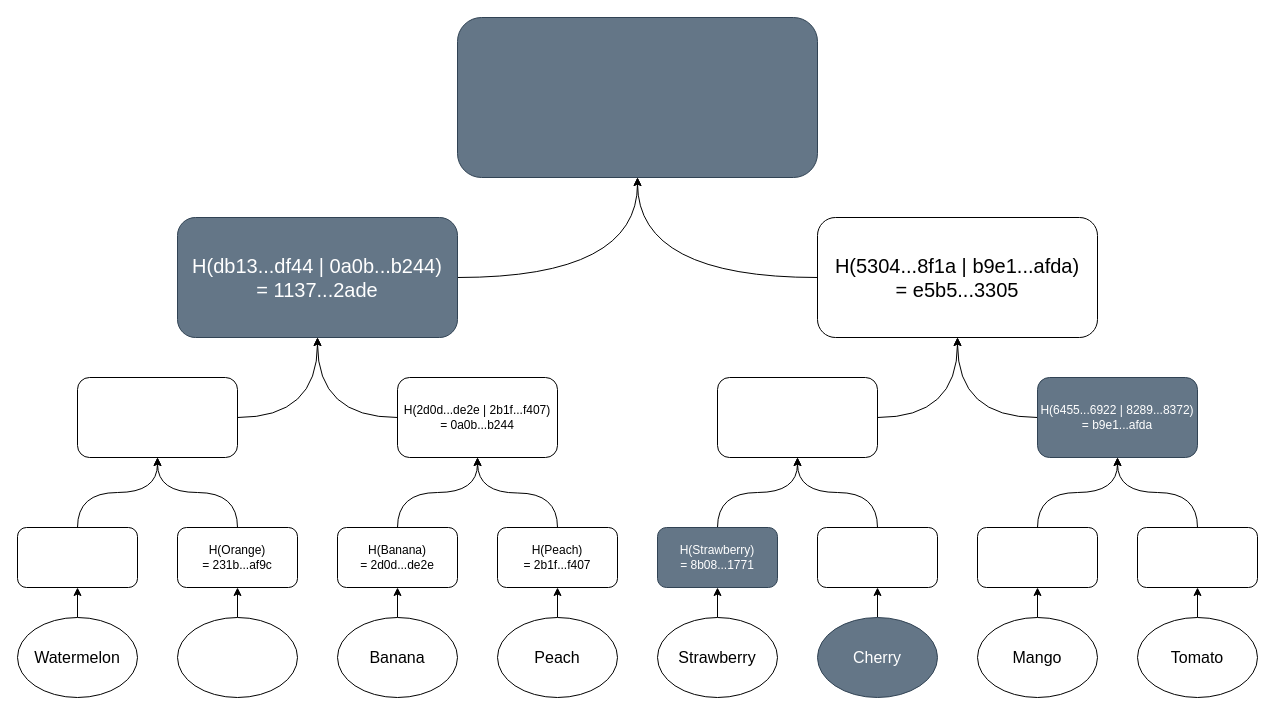
The diagram is 1275 pixels wide and 715 high, and some of its shapes have lost their labels. Here are the shapes that lost their labels. From the top down, the centre of each, then its label:
[637,97]: Cumulative Value = H(1137...2ade | e5b5...3305) = d633...57c9
[157,417]: H(fcc1...783f | 231b...af9c) = db13...df44
[797,417]: H(8b08...1771 | abf6...262f) = 5304...8f1a
[77,557]: H(Watermelon) = fcc1...783f
[877,557]: H(Cherry) = abf6...262f
[1037,557]: H(Mango) = 6455...6922
[1197,557]: H(Tomato) = 8289...8372
[237,657]: Orange
